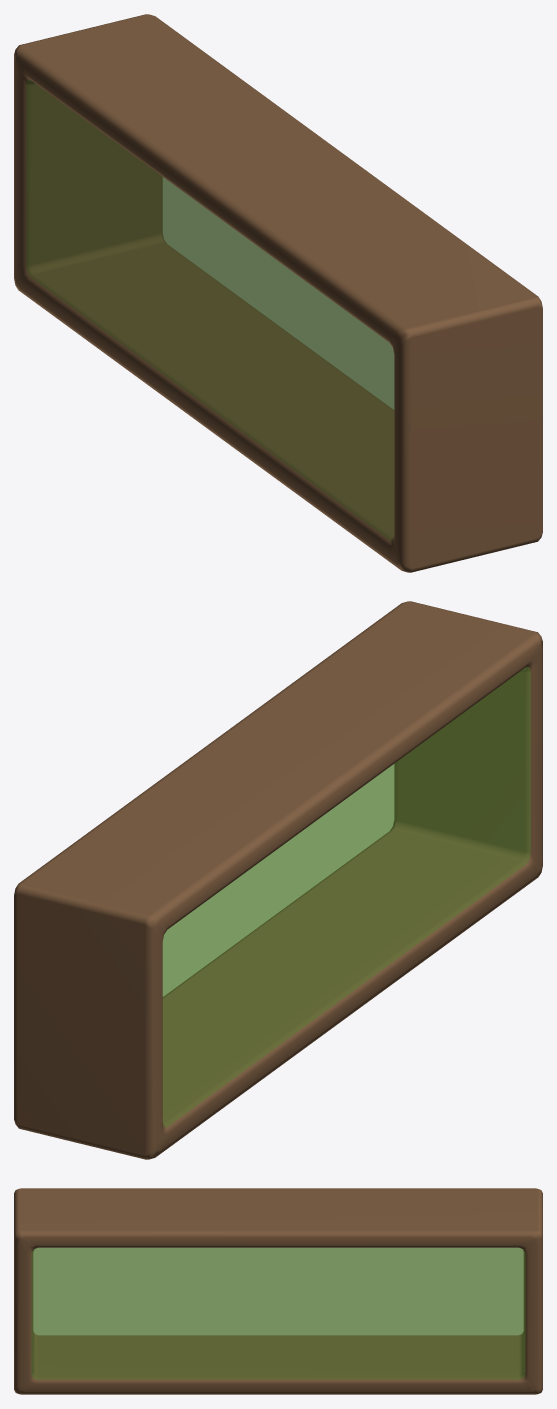
File: M_md_CabinetShelve_01.fbx
The picture shows the model from 3 angles, top to bottom: view 1: azimuth 30°, elevation 25°; view 2: azimuth 150°, elevation 25°; view 3: azimuth 270°, elevation 25°; orthographic projection. The views are drawn at different scales.
Visible parts, largest first — view 1: M_md_CabinetShelve_01_LOD0, M_md_CabinetShelve_01_col_01; view 2: M_md_CabinetShelve_01_LOD0, M_md_CabinetShelve_01_col_01; view 3: M_md_CabinetShelve_01_LOD0, M_md_CabinetShelve_01_col_01.
Boxes of the visible parts, x1=… form: M_md_CabinetShelve_01_LOD0: x1=14, y1=14, x2=542, y2=572; M_md_CabinetShelve_01_col_01: x1=26, y1=80, x2=394, y2=540; M_md_CabinetShelve_01_LOD0: x1=14, y1=601, x2=542, y2=1159; M_md_CabinetShelve_01_col_01: x1=162, y1=667, x2=530, y2=1127; M_md_CabinetShelve_01_LOD0: x1=14, y1=1188, x2=542, y2=1394; M_md_CabinetShelve_01_col_01: x1=31, y1=1247, x2=525, y2=1379.
Size of what is drawn, in the model's own units: 20.58 by 34.22 by 100.
